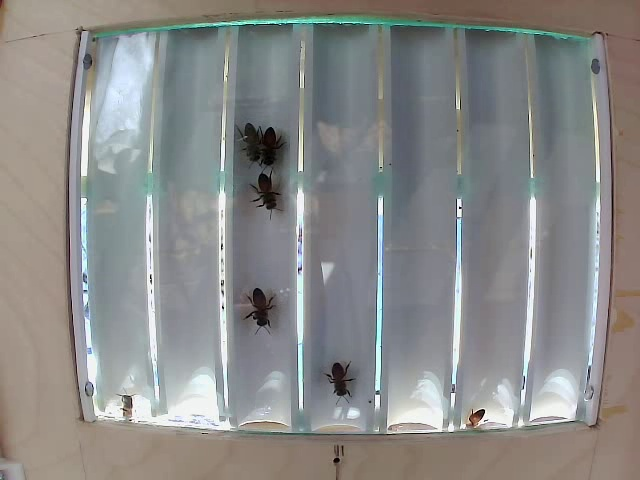bee: (236, 276, 278, 326), (319, 345, 357, 393), (249, 169, 287, 209), (257, 124, 285, 175), (229, 115, 258, 153)
